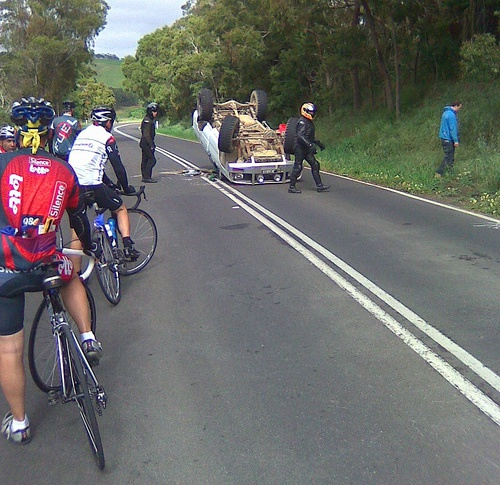non-vehicle: (27, 239, 110, 470), (85, 184, 156, 304)
